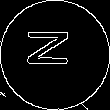N_E: (29, 34, 81, 76)
